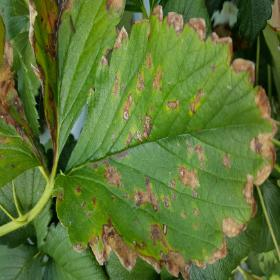Angular Leafspot: (52, 4, 278, 279), (29, 0, 127, 165), (0, 13, 45, 188)
